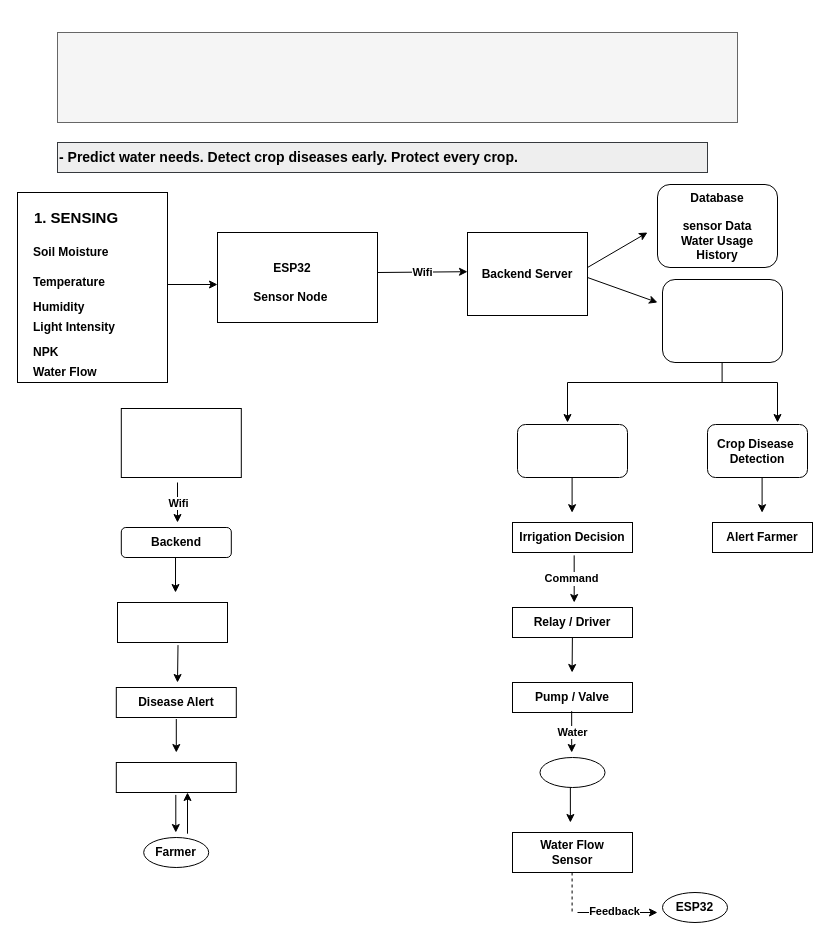
Some shapes in this 830 by 940 pixel diagram are drawn without their labels. The centre of each missing label's shape, as x and y in pixels:
"AgriGuard AI-Powered Smart Irrigation & Crop Health System" belongs at point 397,77.
"AI Engine Irrigation AI Disease AI" belongs at point 722,320.
"Crop" belongs at point 572,772.
"Crop Disease AI" belongs at point 172,622.
"ESP32 - CAM Crop Image Capture" belongs at point 180,443.
"Irrigation Predicton" belongs at point 572,451.
"Web Dashboard" belongs at point 175,777.
